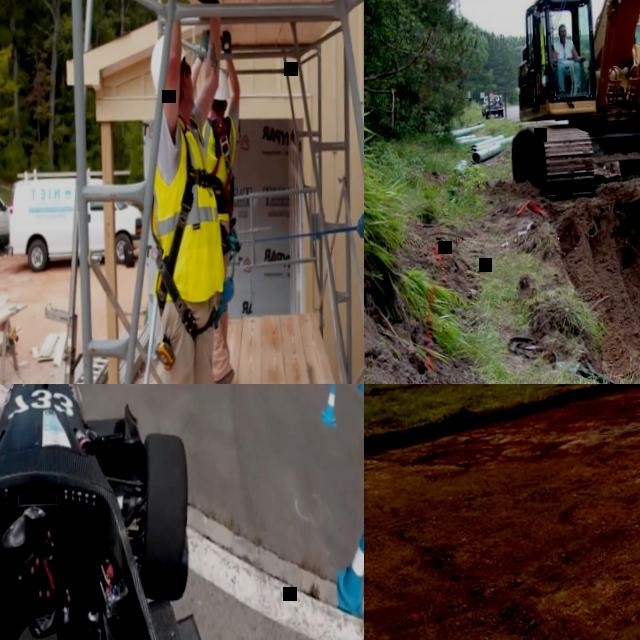Hardhat: (149, 33, 189, 99), (211, 68, 230, 100)
NO-Hardhat: (557, 24, 567, 32)
NO-Mask: (182, 68, 196, 109), (559, 32, 567, 40)
NO-Safety Vest: (555, 40, 575, 62)
Person: (140, 0, 237, 384), (185, 25, 251, 384), (551, 22, 585, 92)
Safety Cone: (335, 522, 364, 616), (319, 384, 340, 430), (356, 384, 364, 394)
Safety Vest: (150, 113, 228, 303), (200, 110, 239, 221)
machinery: (496, 0, 640, 384)
vehicle: (0, 384, 226, 640), (4, 166, 145, 273), (481, 91, 504, 120)
